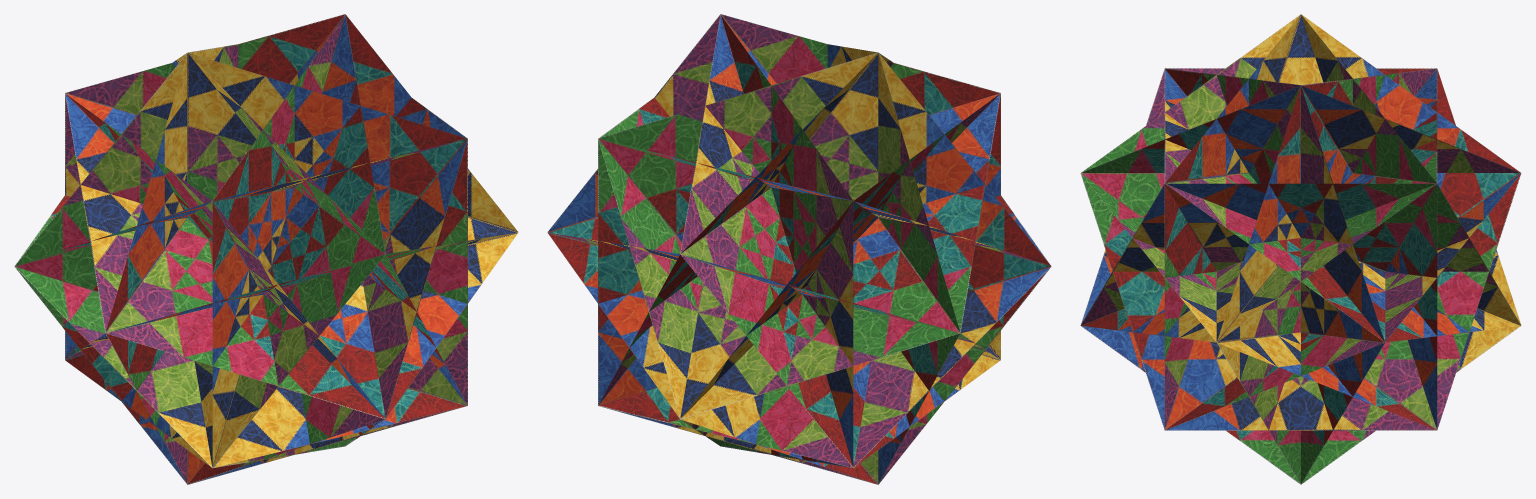
File: GreatDitrigonalIcosidodecahedron6.obj
3 renders of one model, left to right at view 1: azimuth 30°, elevation 25°; view 2: azimuth 150°, elevation 25°; view 3: azimuth 270°, elevation 25°, orthographic. The views are drawn at different scales.
Size of the model in its own units: 1.62 by 1.62 by 1.62.
1 material, 1 textured.
